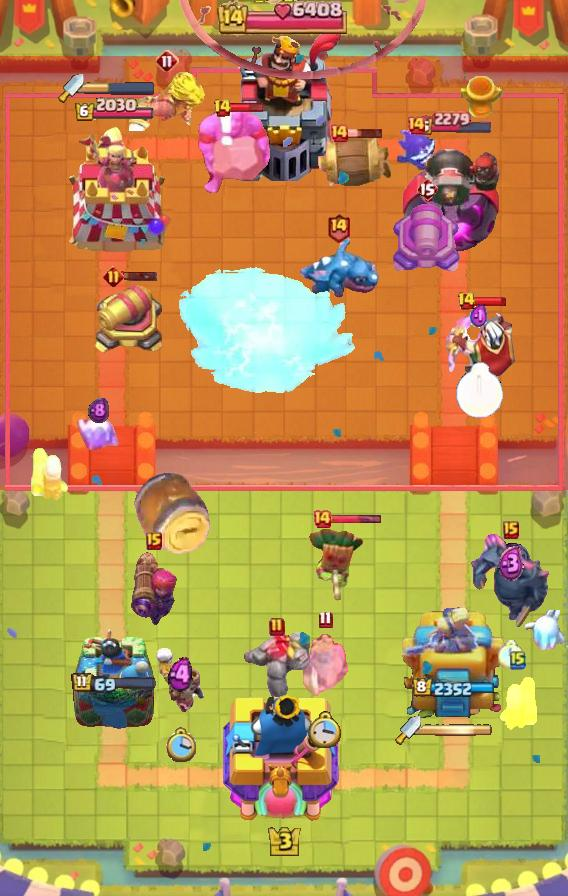archer-queen: (192, 104, 272, 198)
bar: (55, 126, 173, 256), (399, 607, 507, 731)
bat: (525, 610, 567, 650)
bomber-evolution: (153, 668, 206, 720)
clock: (217, 0, 351, 34)
dirt: (131, 470, 213, 556)
electro-spirit: (498, 546, 524, 582), (167, 657, 192, 693), (87, 396, 108, 423), (470, 303, 488, 330)
elixir: (455, 362, 504, 419), (308, 711, 342, 749), (164, 727, 195, 764), (498, 640, 524, 669)
emote: (330, 514, 382, 525), (347, 127, 384, 139), (122, 270, 159, 282), (229, 103, 264, 114), (473, 297, 507, 308)
goblin-barrel: (305, 524, 365, 602)
goblin-hut: (130, 69, 207, 131)
golemite: (469, 531, 553, 629)
graveyard: (296, 236, 380, 300)
heal-spirit: (152, 647, 180, 681)
king-tower: (223, 31, 345, 181), (223, 689, 345, 826)
king-tower-bar: (84, 81, 156, 95), (421, 723, 493, 737)
mega-knight: (174, 264, 358, 400)
mega-minion: (130, 552, 178, 628)
mirror: (75, 413, 121, 455)
mortar-evolution: (297, 633, 353, 699)
queen-tower: (72, 627, 156, 731)
royal-recruit: (90, 281, 168, 357), (391, 203, 463, 277)
selected: (73, 97, 154, 123), (71, 672, 157, 696), (414, 110, 495, 135), (413, 677, 496, 699)
skeleton-barrel: (177, 0, 429, 80)
skeleton-king: (442, 306, 516, 380)
spear-goblin: (395, 130, 437, 170)
text: (325, 212, 350, 243), (155, 49, 179, 73), (416, 177, 438, 201), (103, 266, 124, 287), (212, 98, 232, 118), (406, 115, 426, 135), (329, 123, 349, 143), (312, 509, 332, 529), (457, 291, 476, 311), (269, 617, 285, 637), (510, 650, 526, 670), (503, 521, 519, 539), (146, 532, 162, 550), (319, 610, 334, 629)
the-log: (314, 133, 394, 193)
tombstone: (29, 445, 71, 503), (497, 674, 539, 732)
tower-bar: (401, 138, 505, 256)
valkyrie-evolution: (241, 630, 313, 702)
